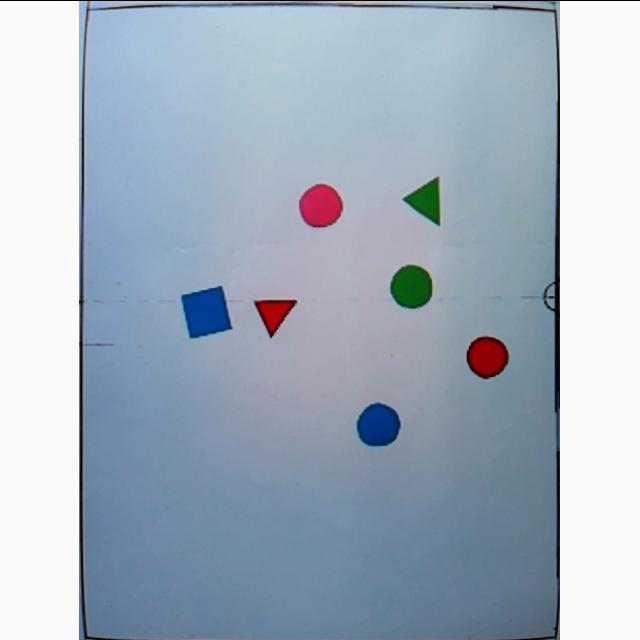blueCircle: (358, 403, 402, 445)
blueSquare: (182, 285, 234, 337)
greenCircle: (392, 265, 434, 307)
greenTriangle: (404, 176, 442, 226)
pinkCircle: (298, 183, 344, 227)
redCircle: (467, 336, 511, 376)
redTriangle: (256, 289, 298, 337)
